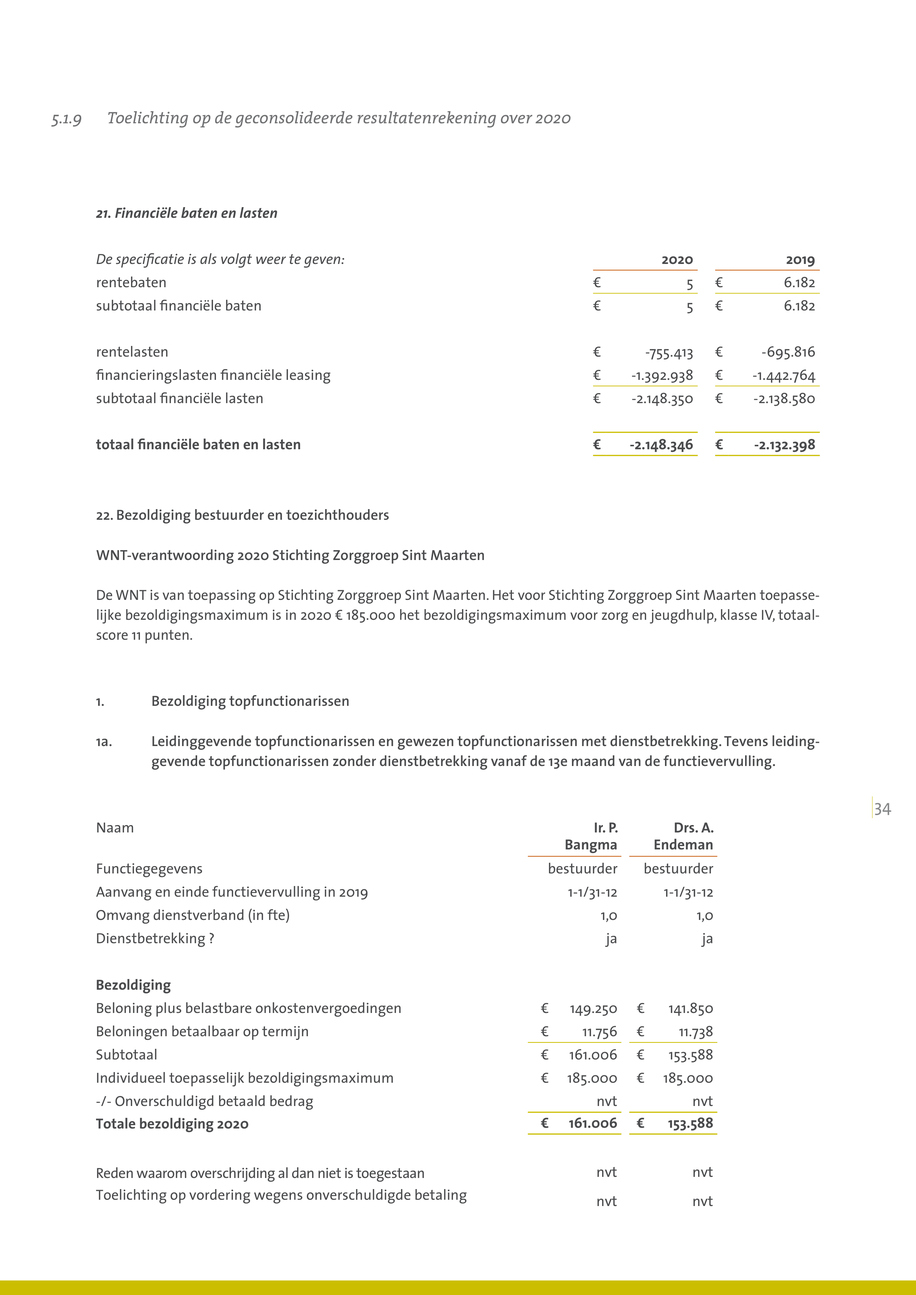coulmn: (77, 815, 412, 1138), (81, 247, 361, 473), (511, 809, 635, 1142), (579, 238, 714, 464), (632, 815, 723, 1145), (711, 248, 822, 468)
